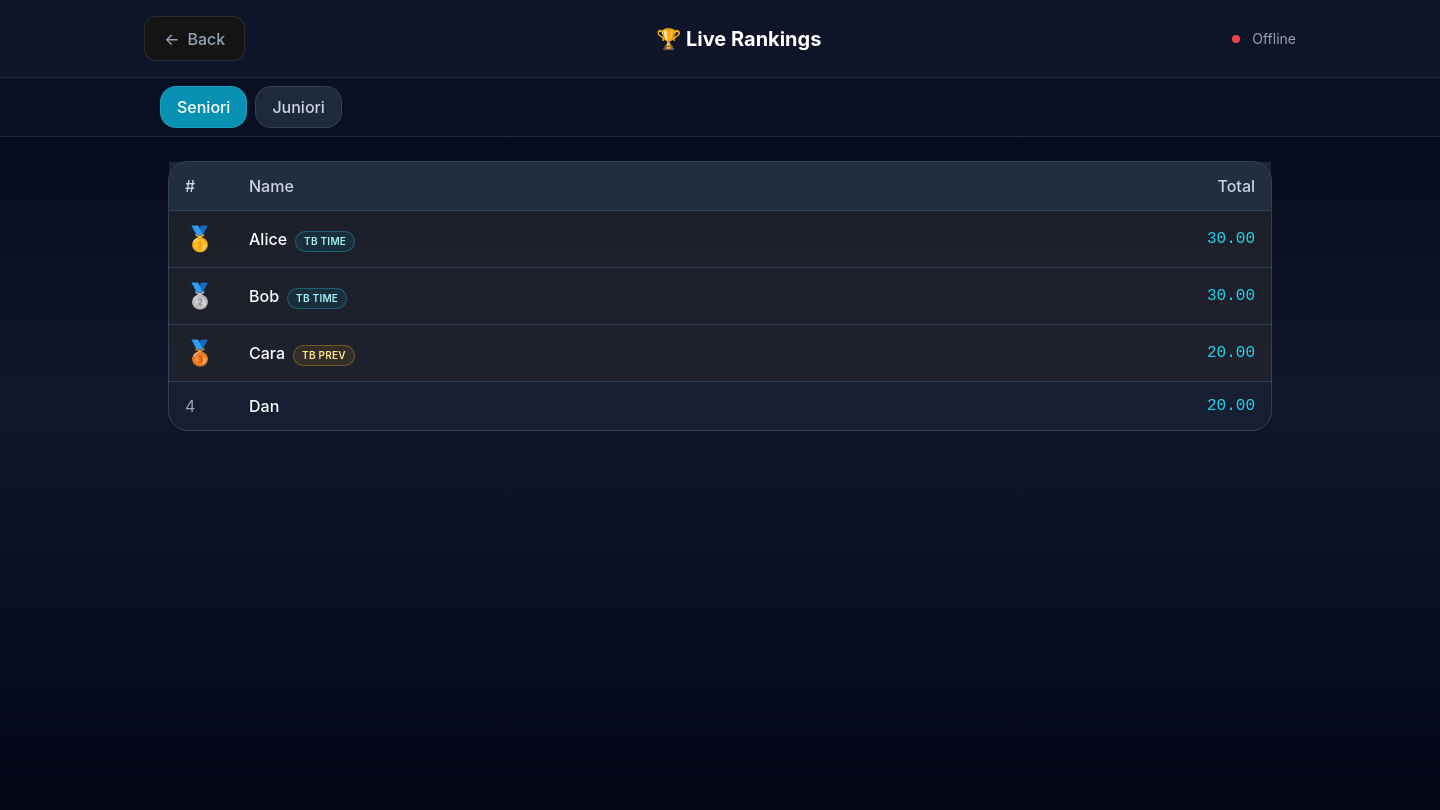
it: PublicRankings TB interactive badges › shows fallback when TB Prev lineage data is missing
Step 1. Click the button "Juniori" → (299, 107), box [255,86,342,128]
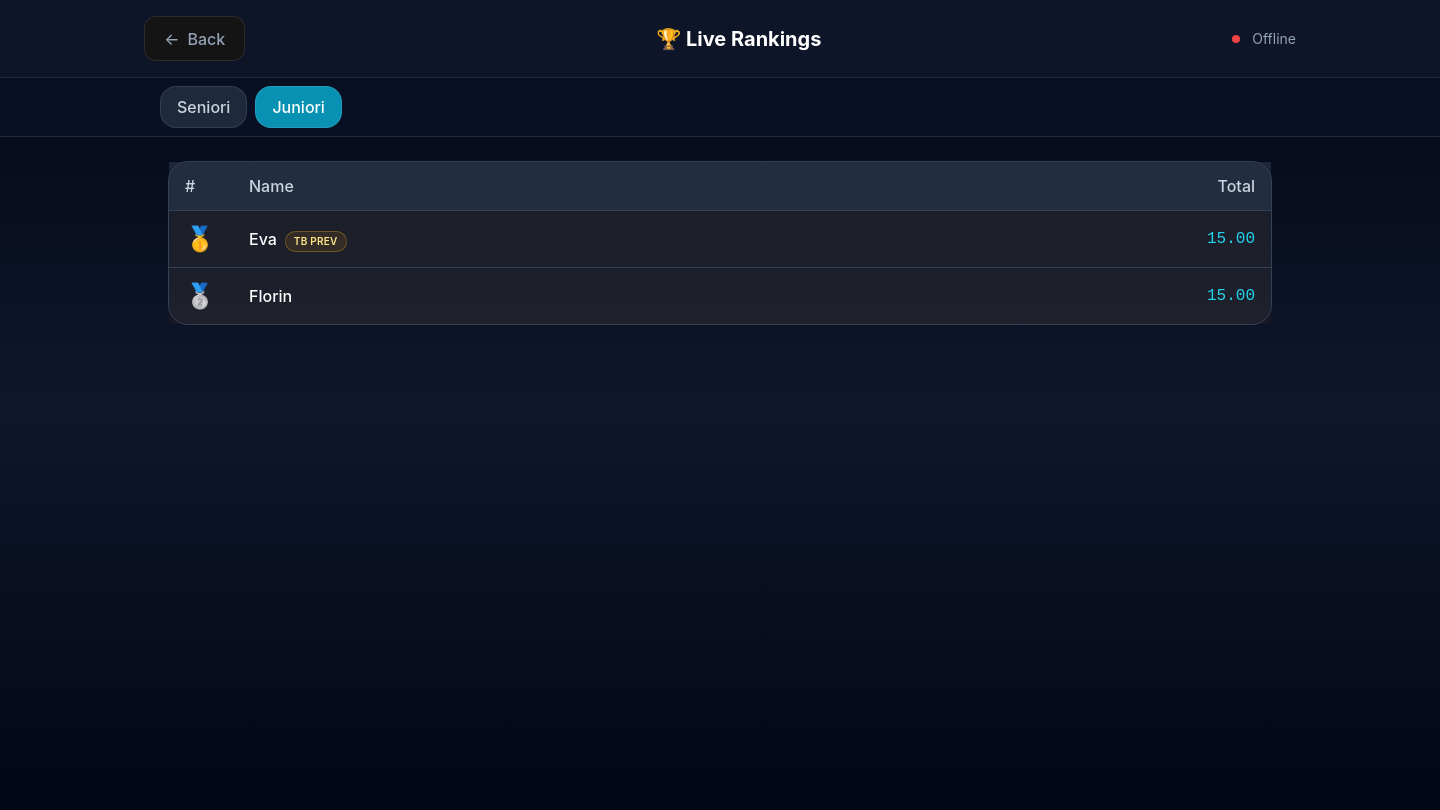
Step 2. Click the button with aria-label "TB Prev details for Eva" → (316, 241), box [285,231,347,252]
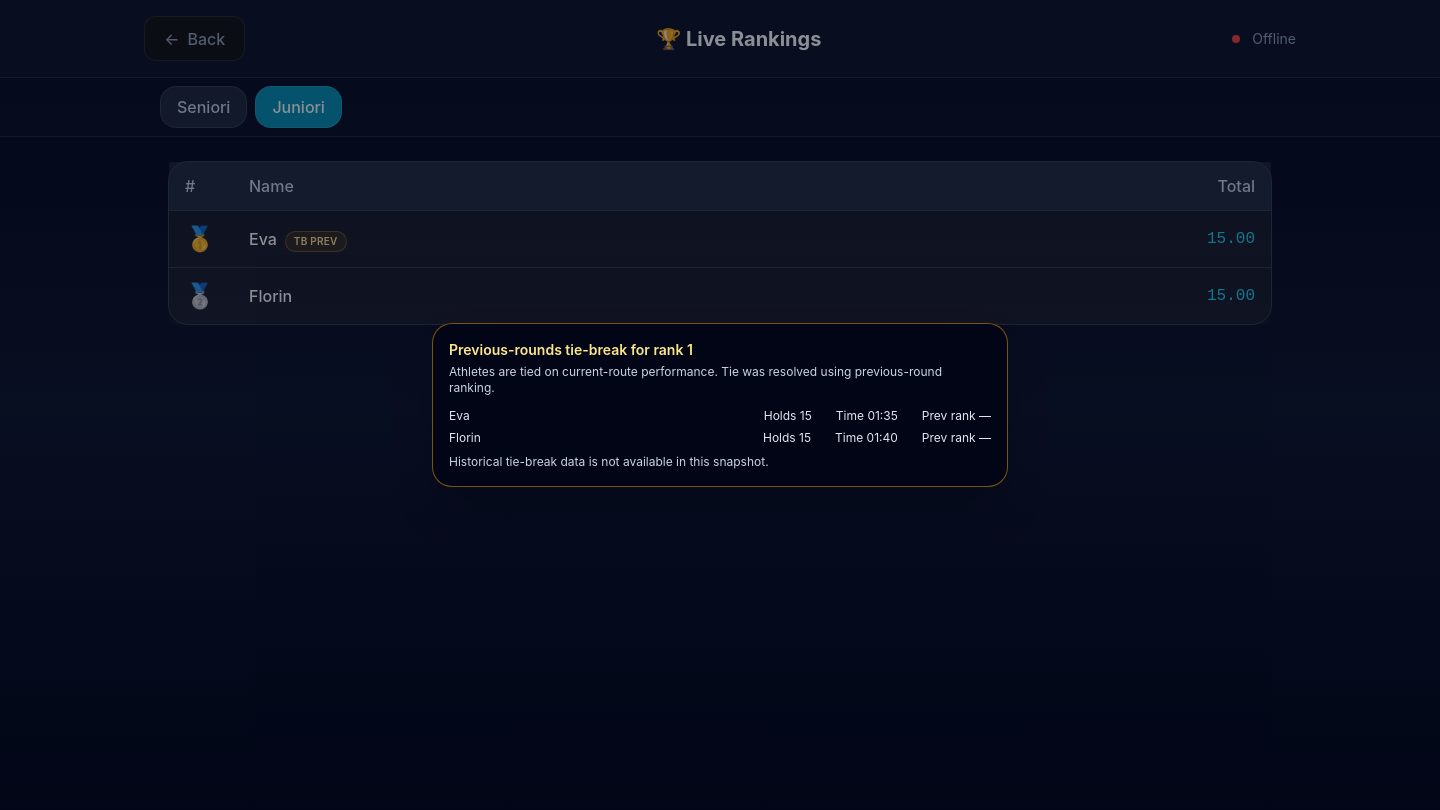
Expected: the text "Historical tie-break data is not available in this snapshot." is shown, [449,454,769,469]
